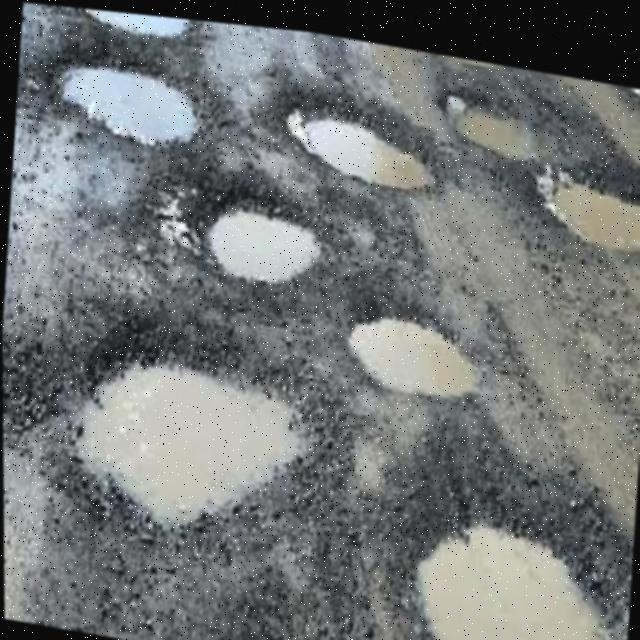pothole: (54, 296, 328, 566), (398, 475, 624, 640), (336, 278, 491, 404), (277, 78, 443, 193), (41, 39, 206, 154), (191, 170, 330, 293), (430, 68, 560, 162), (530, 143, 640, 246), (65, 5, 194, 41), (387, 36, 512, 66)
